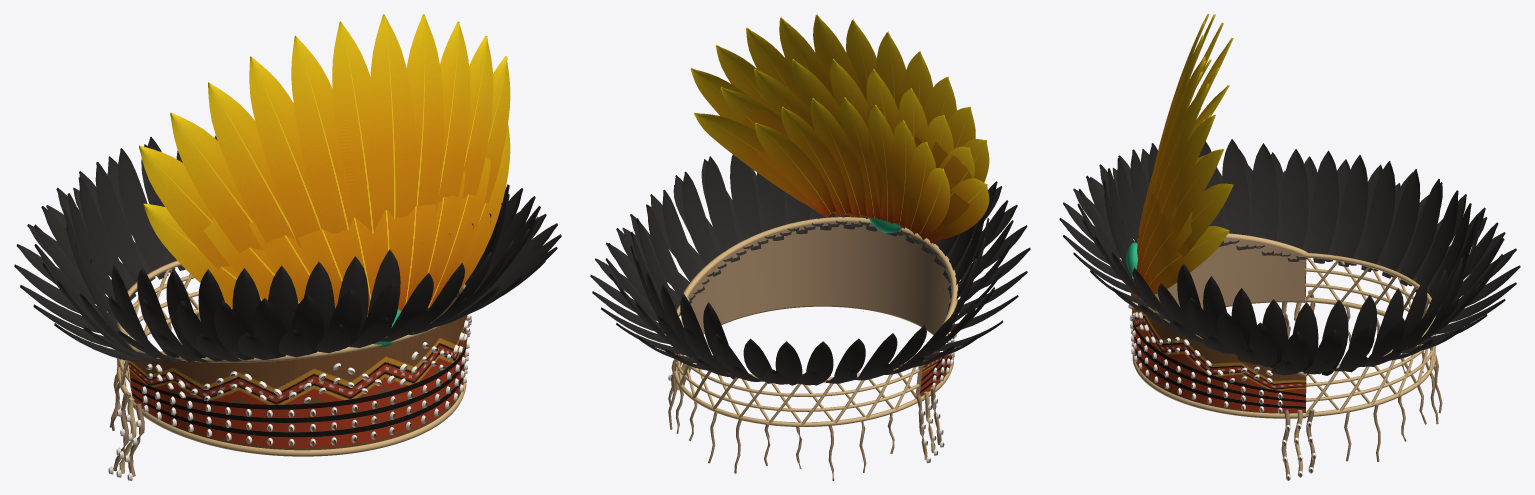
File: 05_Papua_Chief_Crown.fbx
3 views of the same model, side by side, from view 1: azimuth 30°, elevation 25°; view 2: azimuth 150°, elevation 25°; view 3: azimuth 270°, elevation 25° (orthographic). The views are drawn at different scales.
Visible parts, largest first — view 1: Papuan_Chief_Crown; view 2: Papuan_Chief_Crown; view 3: Papuan_Chief_Crown.
Part boxes in pixels (x1=…): Papuan_Chief_Crown: x1=14, y1=14, x2=561, y2=480; Papuan_Chief_Crown: x1=590, y1=14, x2=1030, y2=480; Papuan_Chief_Crown: x1=1059, y1=14, x2=1520, y2=480.
Size of the model in its own units: 2.37 by 2.22 by 2.44.
